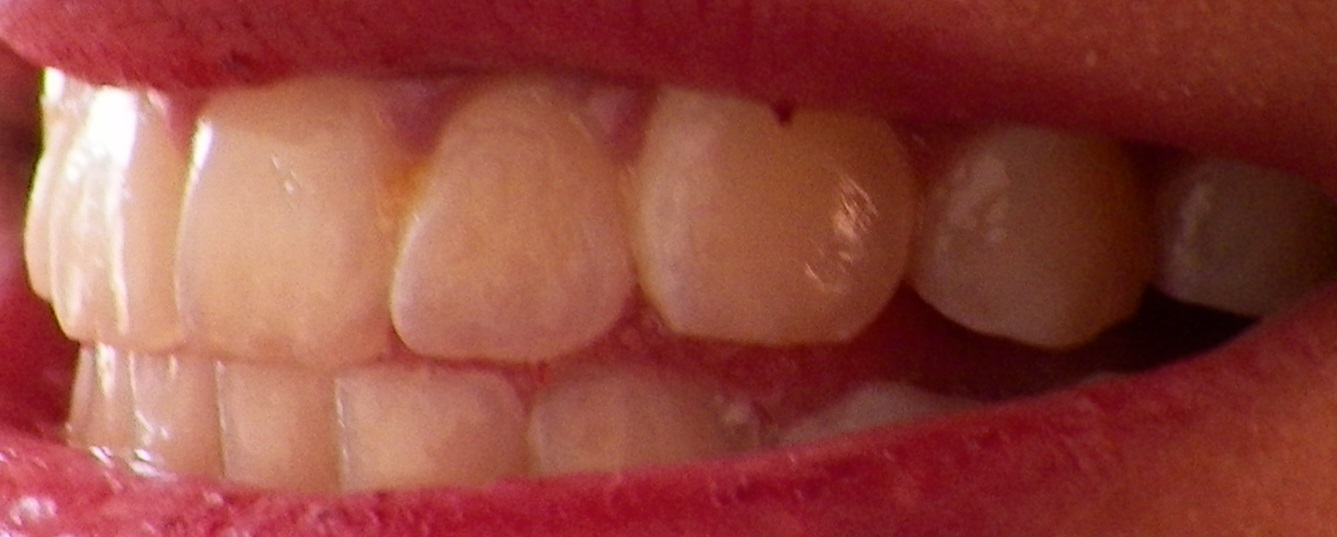boca: (32, 76, 1306, 490)
